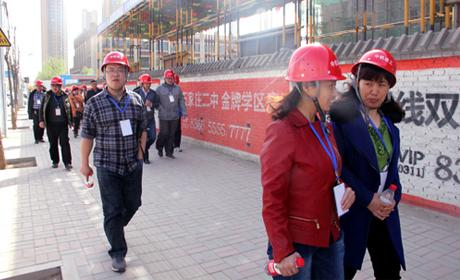helmet: (286, 44, 346, 85), (351, 50, 399, 79), (101, 52, 132, 72), (165, 69, 176, 81), (52, 77, 63, 89), (142, 75, 153, 86), (36, 81, 43, 87), (73, 87, 78, 91), (84, 85, 88, 90)
